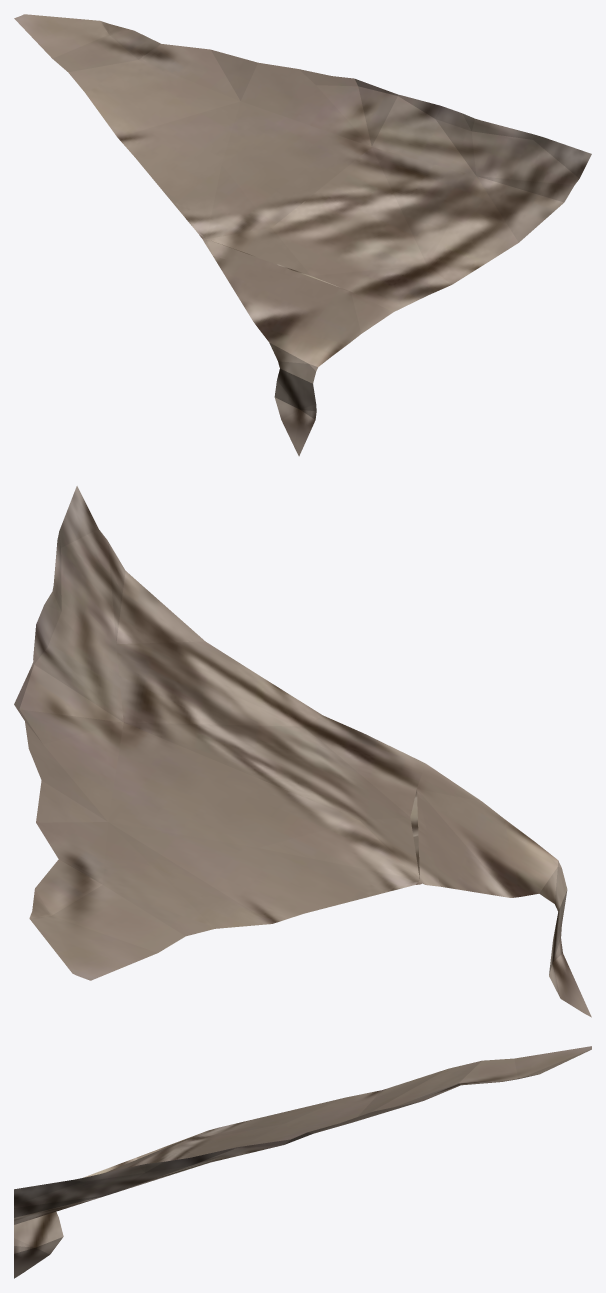
3 renders of one model, top to bottom at view 1: azimuth 30°, elevation 25°; view 2: azimuth 150°, elevation 25°; view 3: azimuth 270°, elevation 25°, orthographic. The views are drawn at different scales.
Bounding box in the file's own units: 0.4966 × 0.3748 × 0.8373.
Materials: 1 (1 with a texture image).
